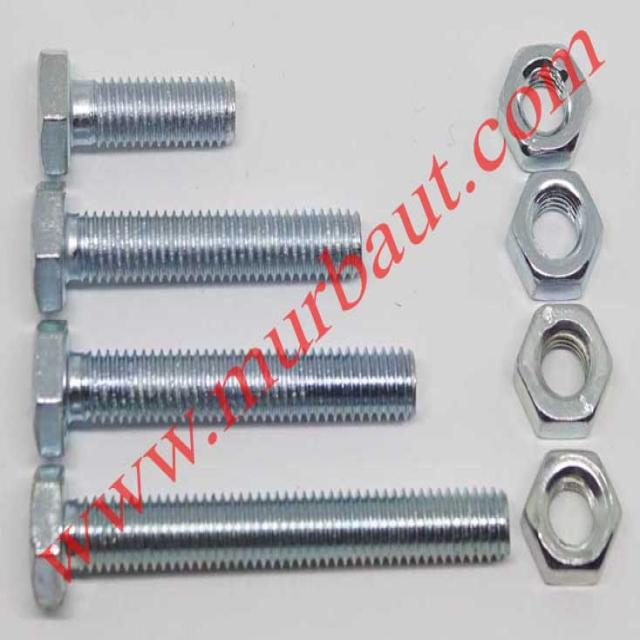Logam: (24, 462, 519, 613), (21, 176, 395, 329), (26, 322, 428, 459), (26, 44, 294, 178), (489, 165, 634, 299), (518, 443, 624, 603), (489, 31, 609, 172), (509, 295, 612, 448)
